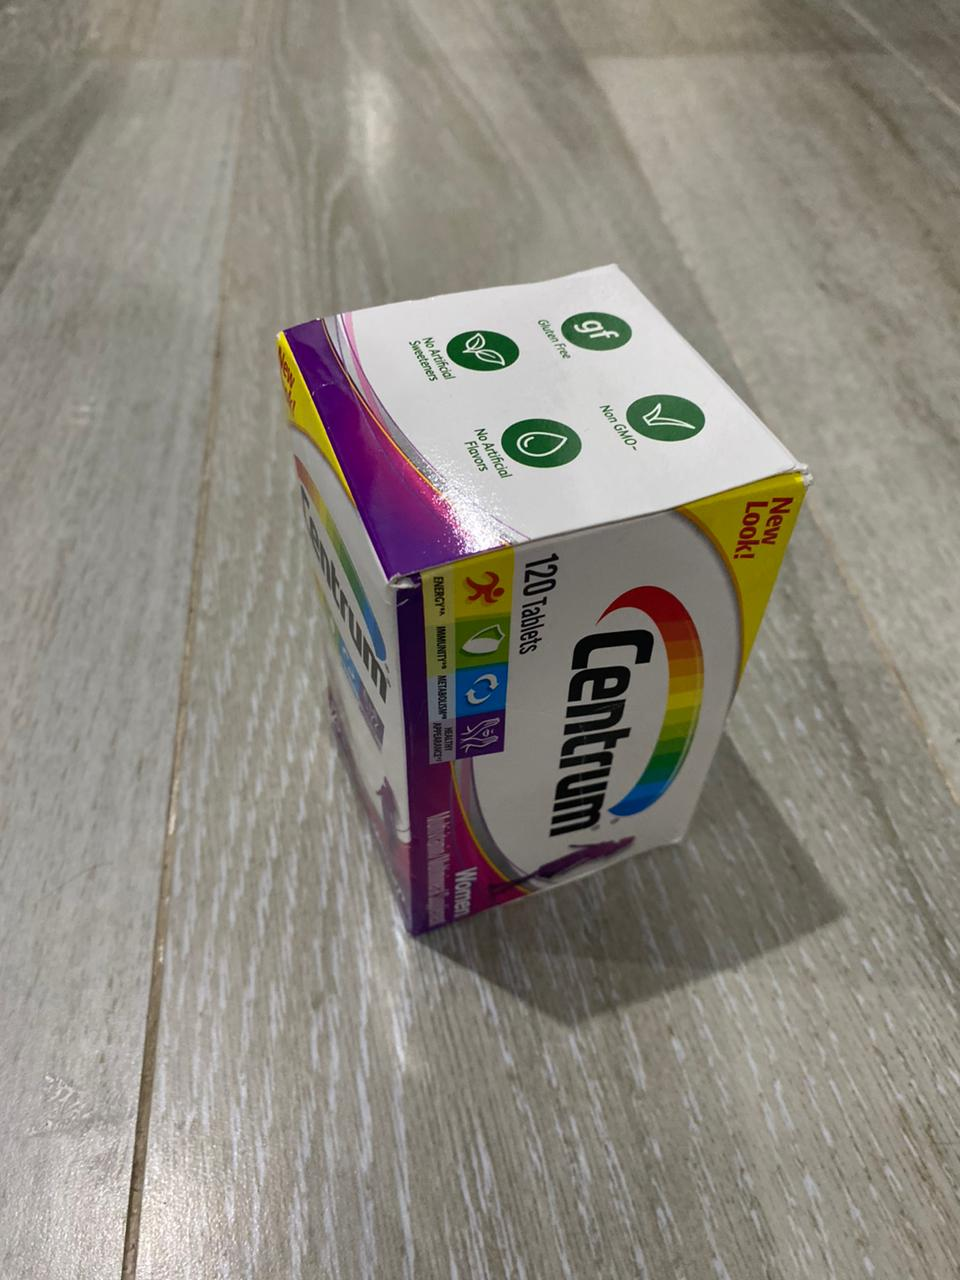Centrum: (269, 259, 861, 946)
